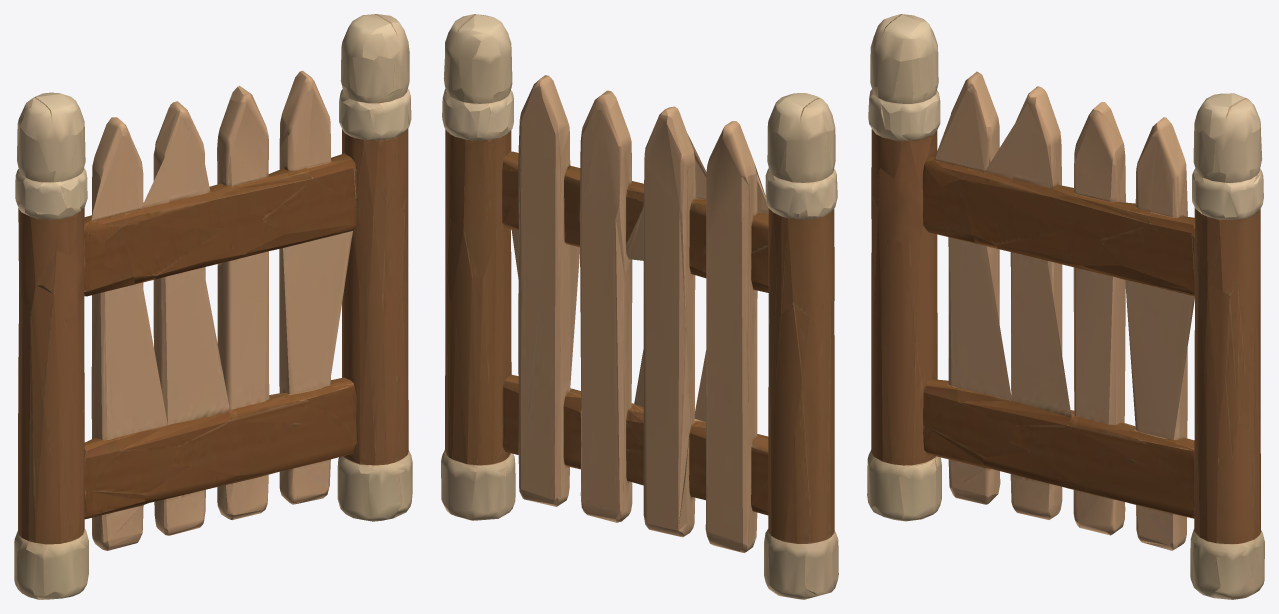
The model's file is picketFence.glb.
3 views of the same model, side by side, from view 1: azimuth 30°, elevation 25°; view 2: azimuth 150°, elevation 25°; view 3: azimuth 330°, elevation 25° (orthographic).
Visible parts, largest first — view 1: Mesh_0; view 2: Mesh_0; view 3: Mesh_0.
Boxes of the visible parts, box(x1,y1,x2,y2) form: Mesh_0: box(14, 14, 412, 599); Mesh_0: box(441, 14, 838, 599); Mesh_0: box(867, 14, 1264, 599).
Size of the model in its own units: 1 by 1.2 by 0.16.
Materials: 1 (1 with a texture image).
